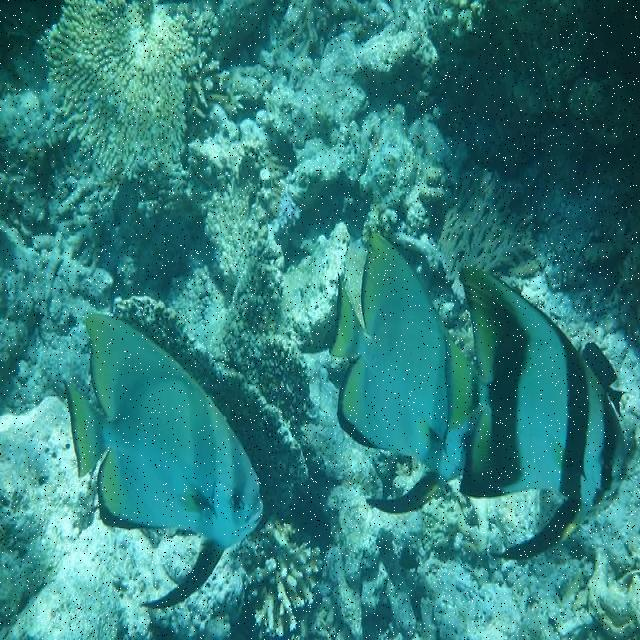fish: (61, 310, 267, 614), (442, 268, 628, 558), (327, 234, 483, 514)
reefs: (34, 0, 198, 182)
